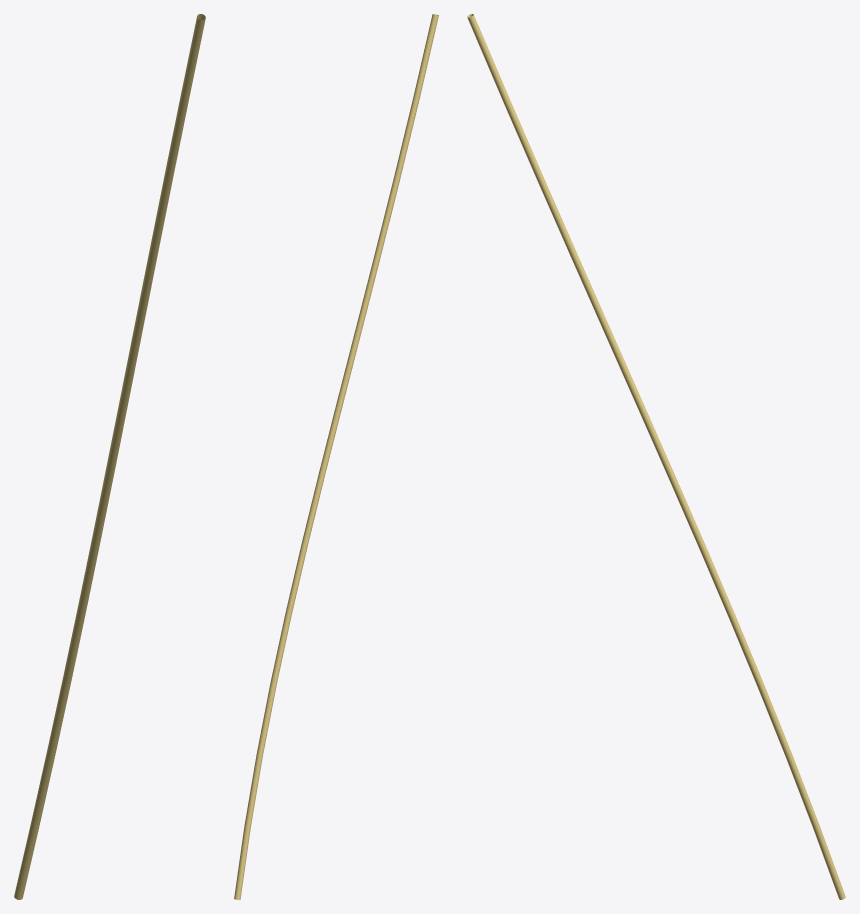
3 renders of one model, left to right at view 1: azimuth 30°, elevation 25°; view 2: azimuth 150°, elevation 25°; view 3: azimuth 270°, elevation 25°, orthographic. The views are drawn at different scales.
Visible parts, largest first — view 1: ZA_34642fc0ed80ee0b; view 2: ZA_34642fc0ed80ee0b; view 3: ZA_34642fc0ed80ee0b.
Part boxes in pixels (left/top/right/bottom): ZA_34642fc0ed80ee0b: left=14, top=14, right=205, bottom=899; ZA_34642fc0ed80ee0b: left=234, top=14, right=438, bottom=899; ZA_34642fc0ed80ee0b: left=467, top=14, right=845, bottom=899.
Bounding box in the file's own units: 0.00695 × 0.1303 × 0.0516.
